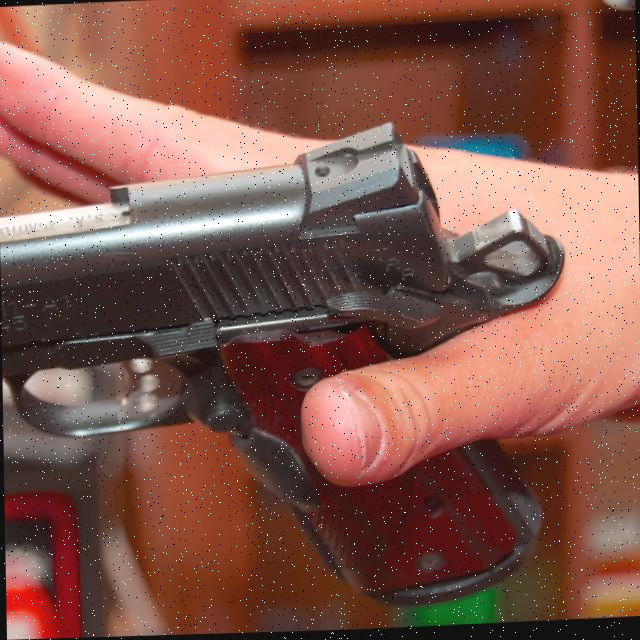pistol: (0, 110, 569, 627)
